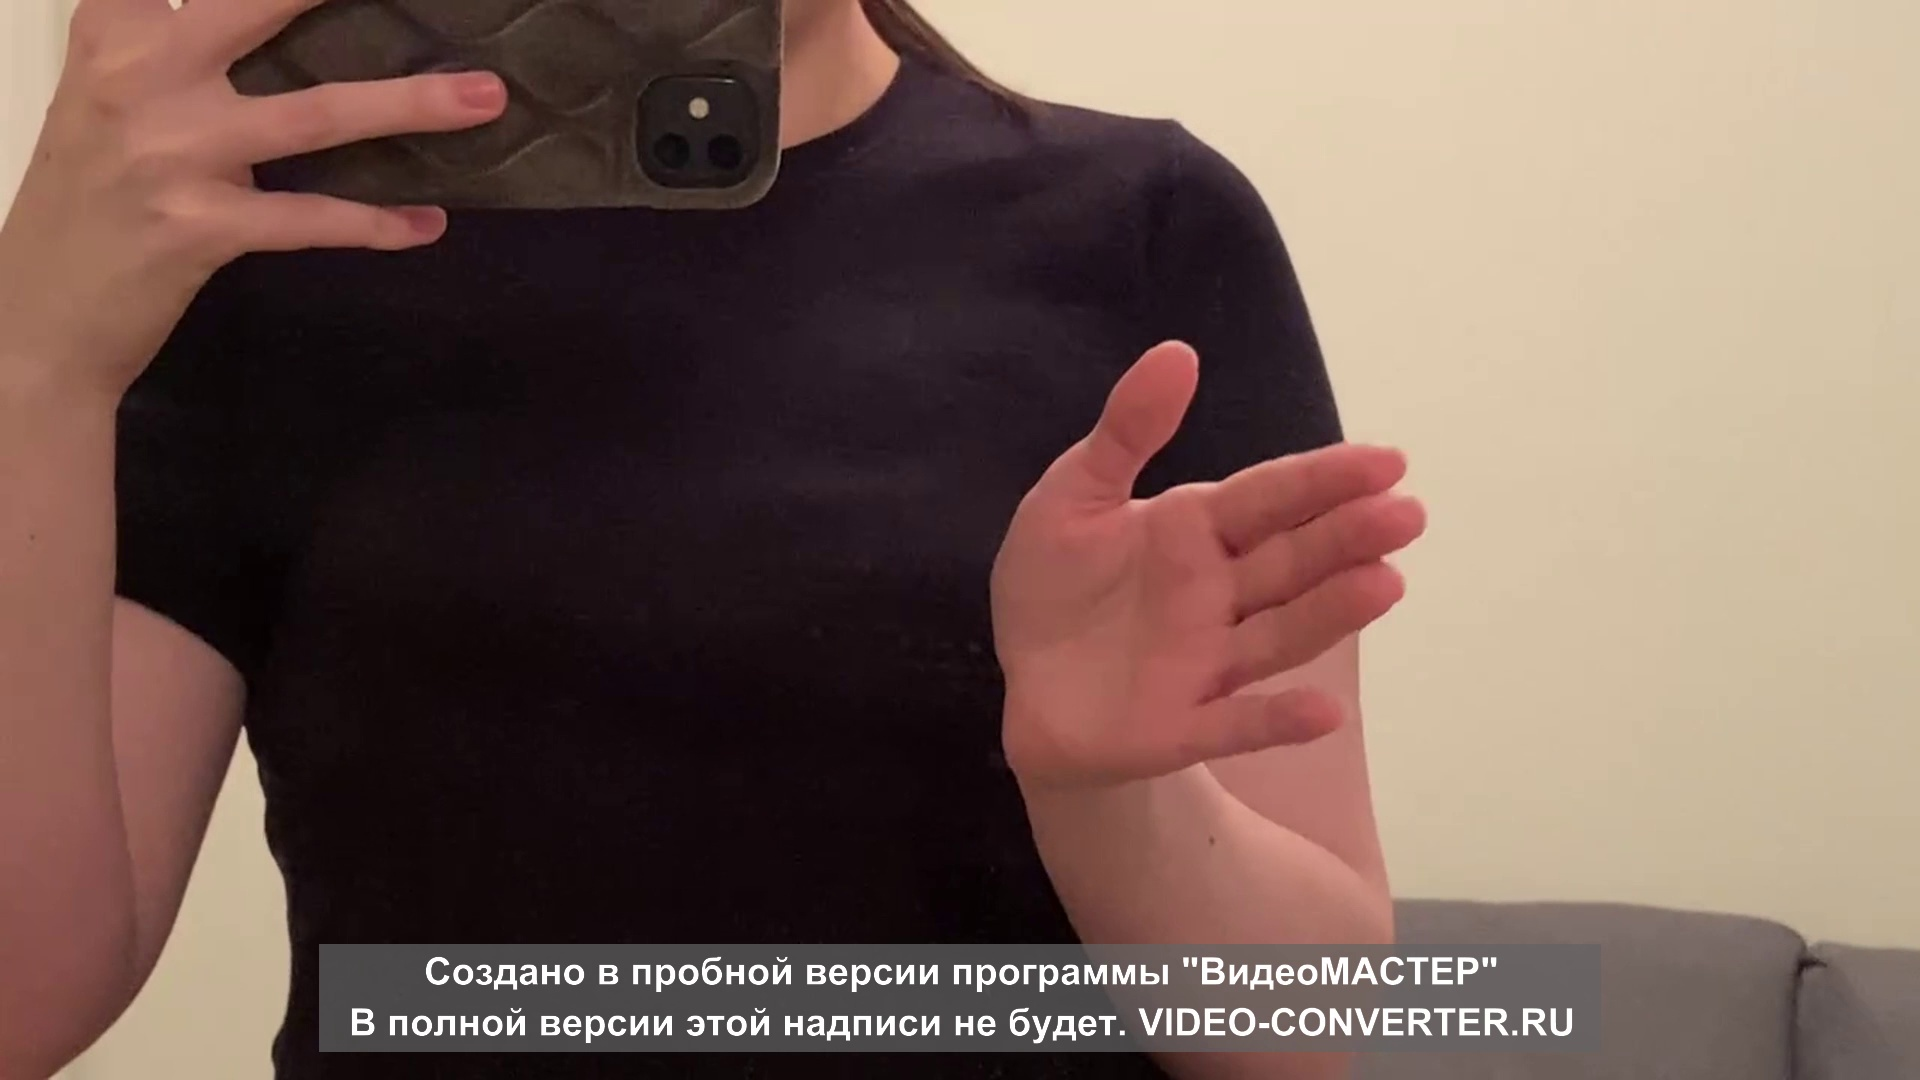Ладонь: (985, 335, 1431, 771)
